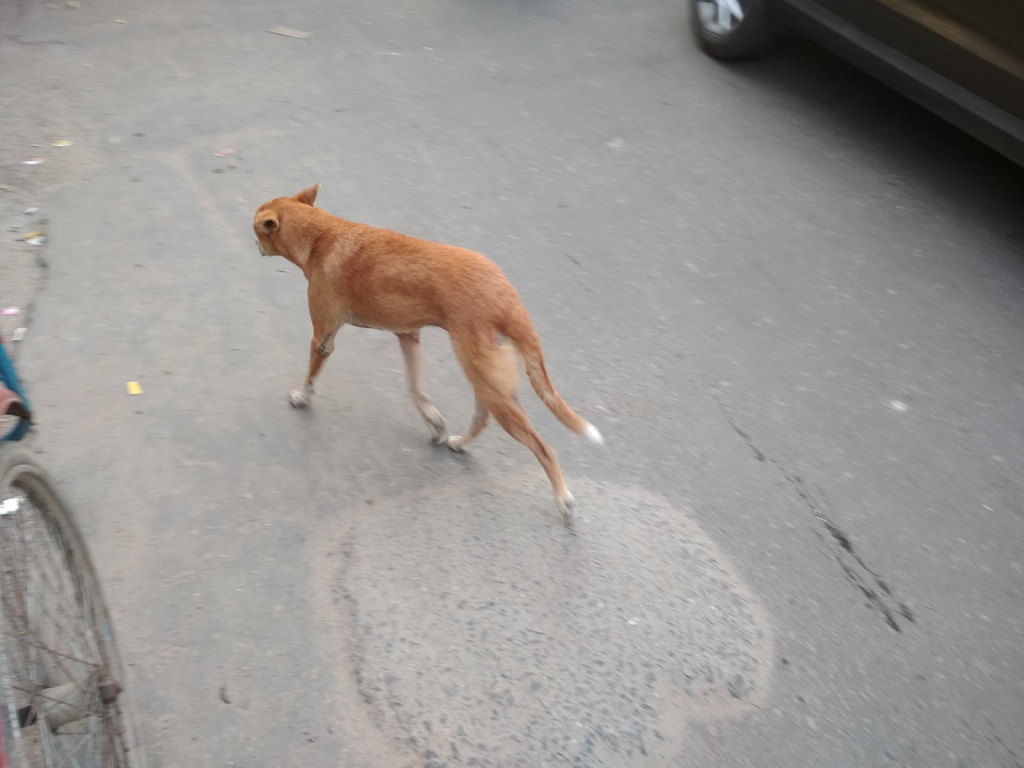dog: (254, 184, 603, 521)
